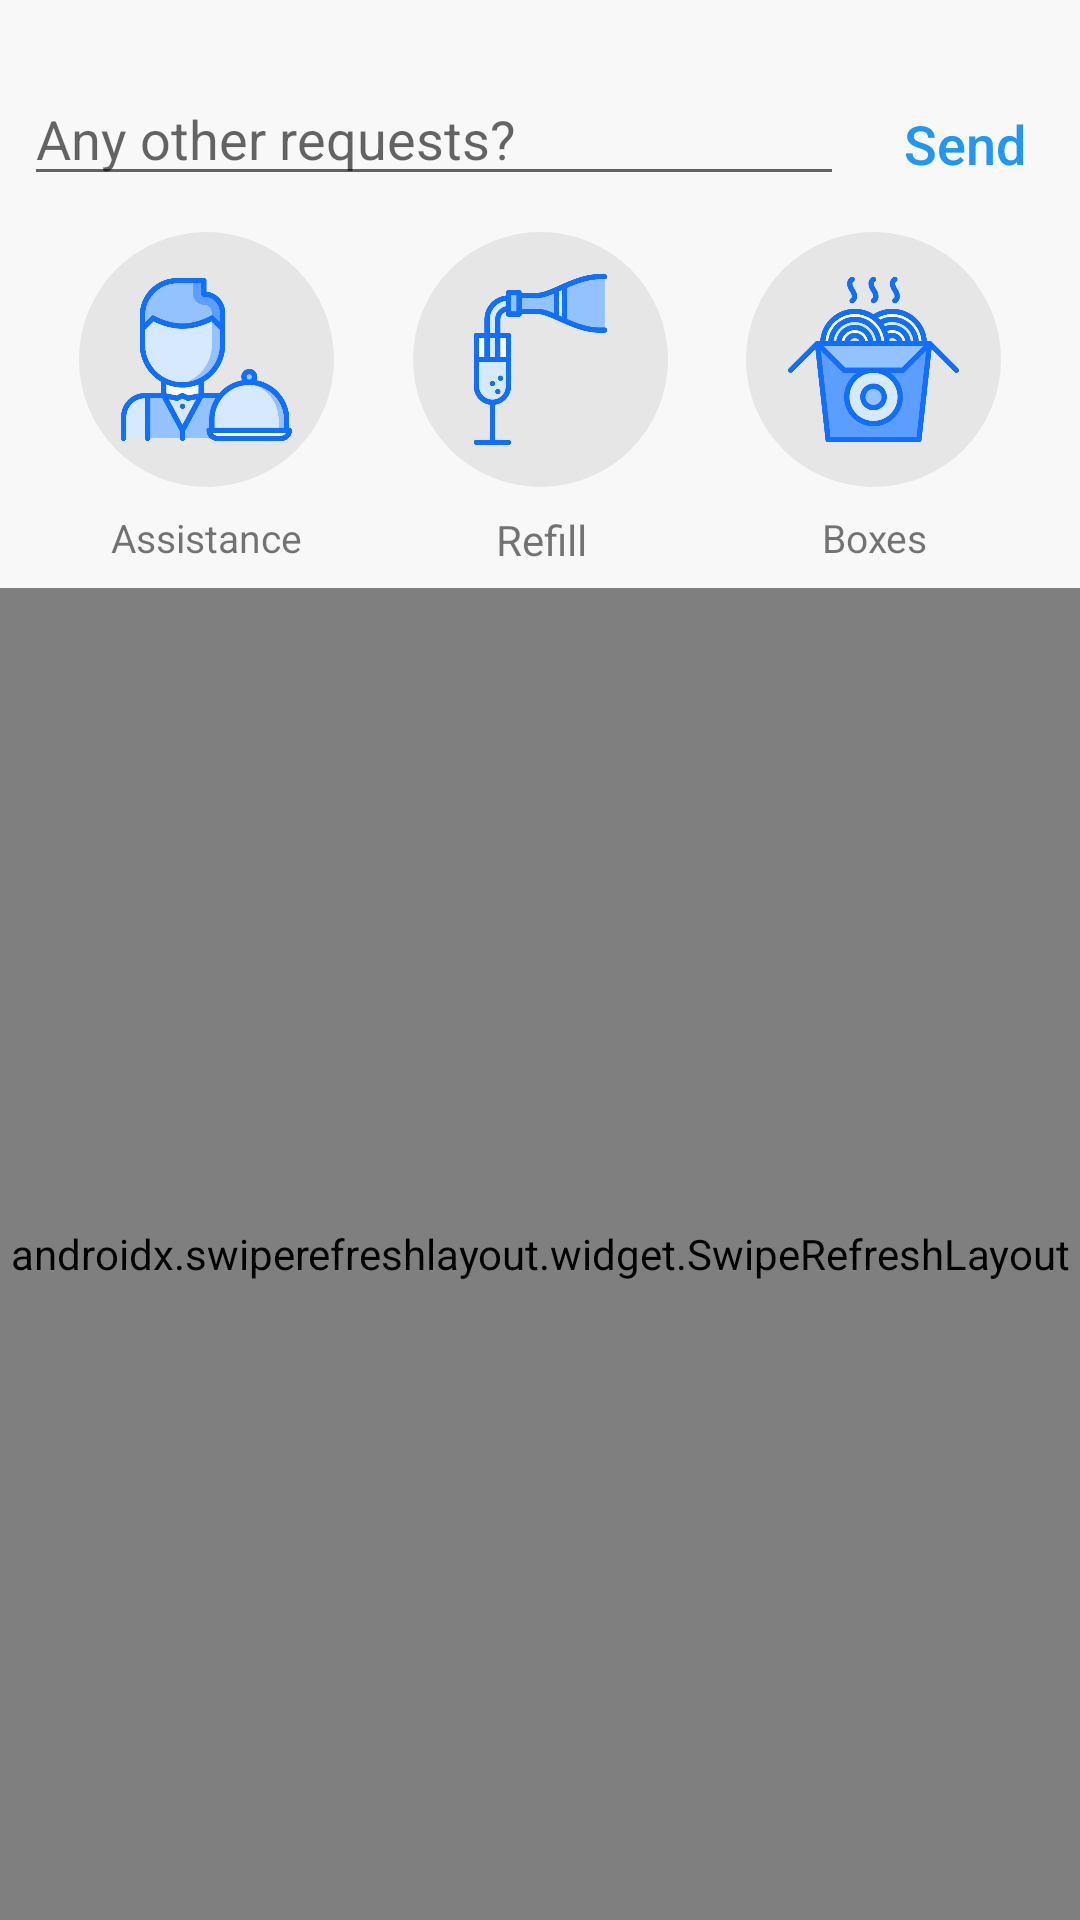

Locate icon controls on the screen. Image size 1080px×1920px, boxes as (x1, y1, x2, y2).
drink: (413, 232, 668, 487)
to go box: (788, 277, 959, 442)
waiter: (121, 278, 292, 441)
